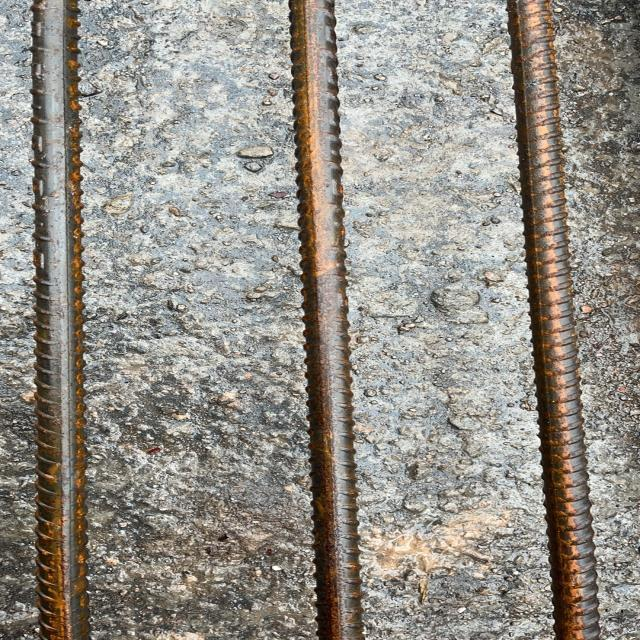ribbed bar: (503, 0, 601, 639), (286, 0, 365, 639), (31, 0, 91, 639)
